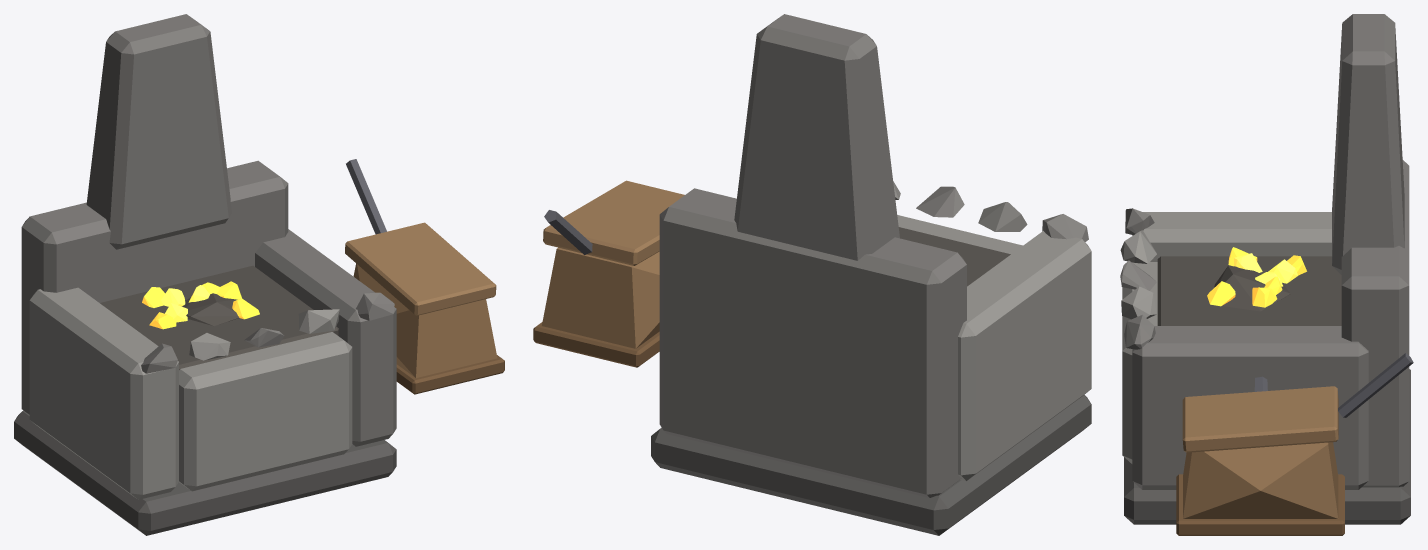
The model's file is forge.glb.
The picture shows the model from 3 angles, left to right: view 1: azimuth 30°, elevation 25°; view 2: azimuth 150°, elevation 25°; view 3: azimuth 270°, elevation 25°; orthographic projection. The views are drawn at different scales.
Parts seen in each view (by area): view 1: Forge; view 2: Forge; view 3: Forge.
Part boxes in pixels (left/top/right/bottom): Forge: left=14, top=14, right=504, bottom=535; Forge: left=533, top=14, right=1091, bottom=535; Forge: left=1120, top=14, right=1413, bottom=535.
Size of the model in its own units: 1.47 by 1.4 by 0.8691.
